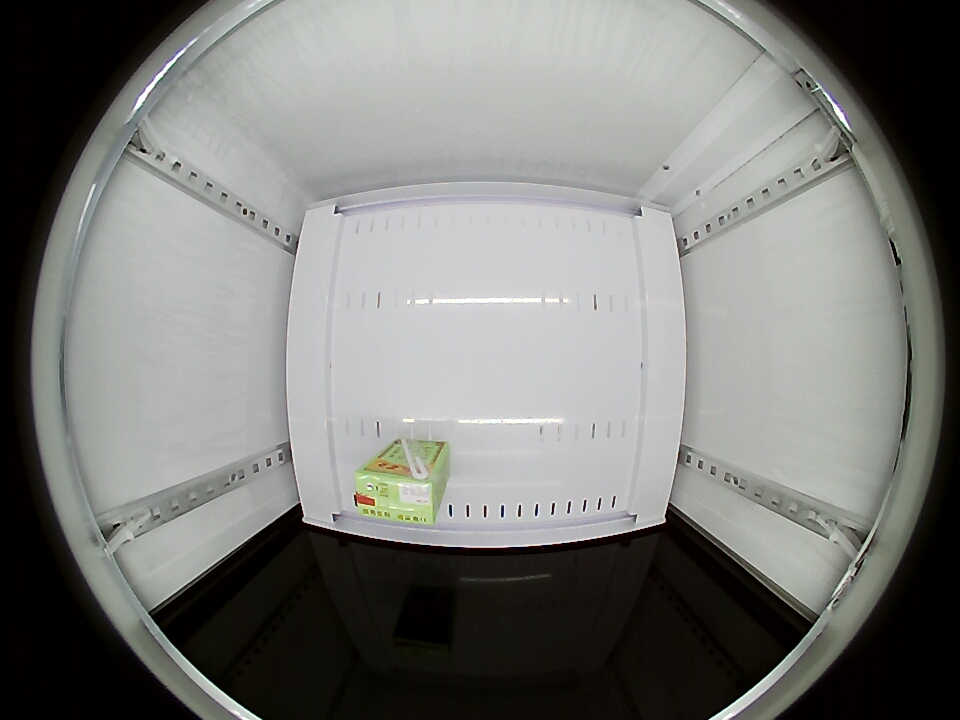wanglaoji: (353, 456, 444, 524)
